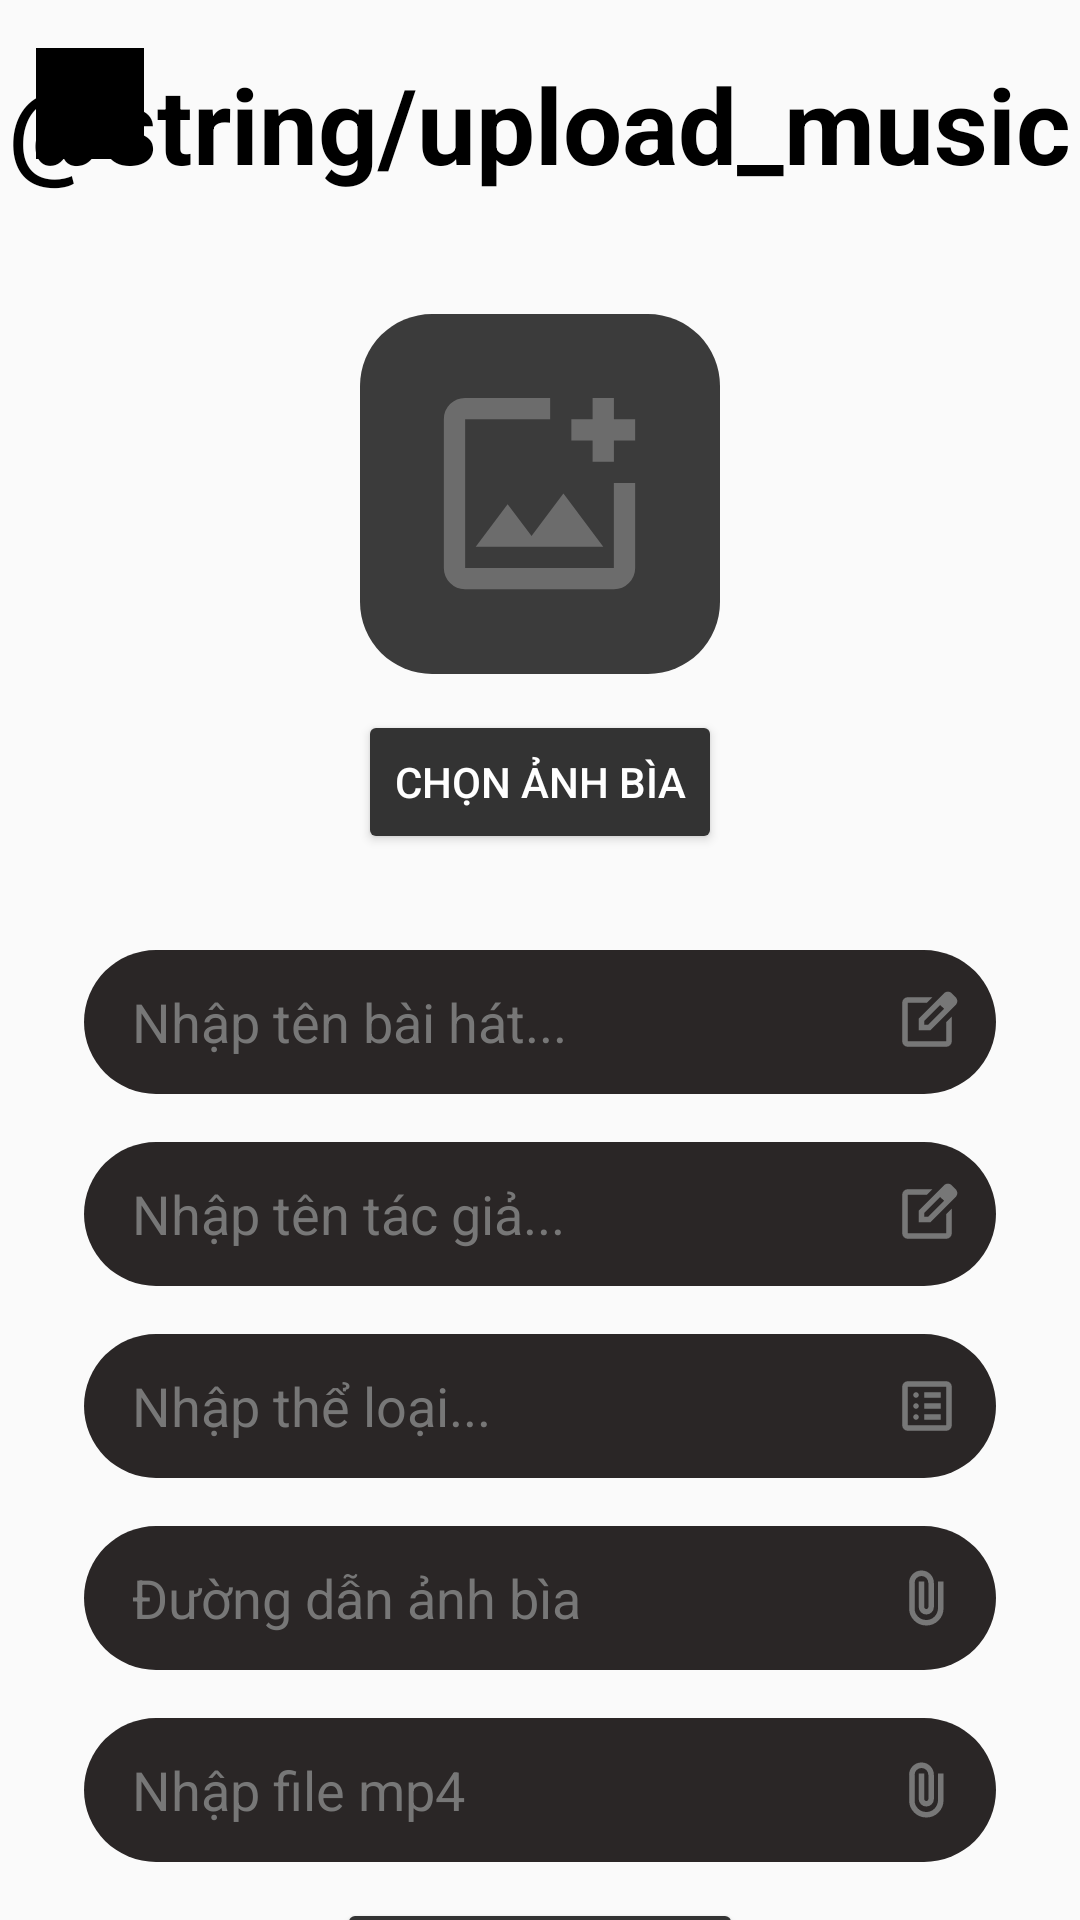

Named icons in this screenshot (1080x1920) and their centers, [x,y]:
add photo alternate: [539,493]
attach file: [926,1598], [926,1790]
category: [927,1406]
edit: [929,1019], [929,1211]
